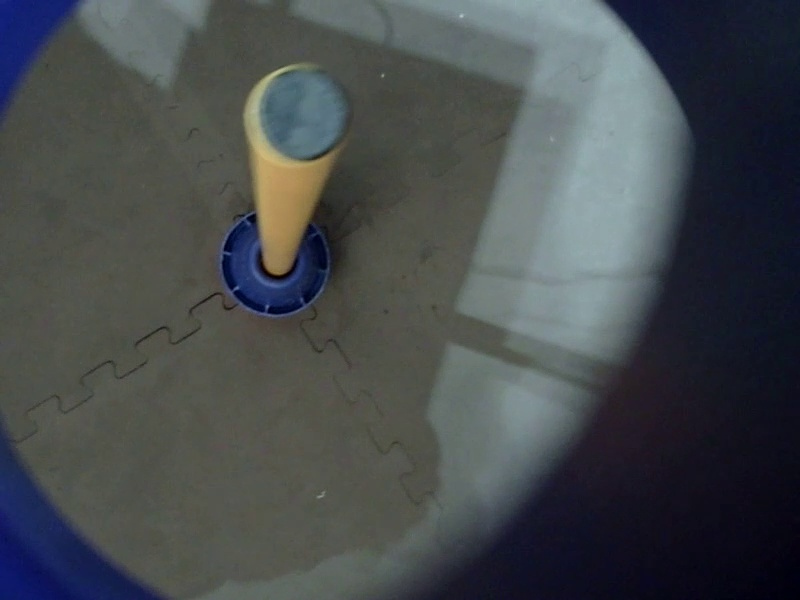tip: (427, 43, 548, 165)
